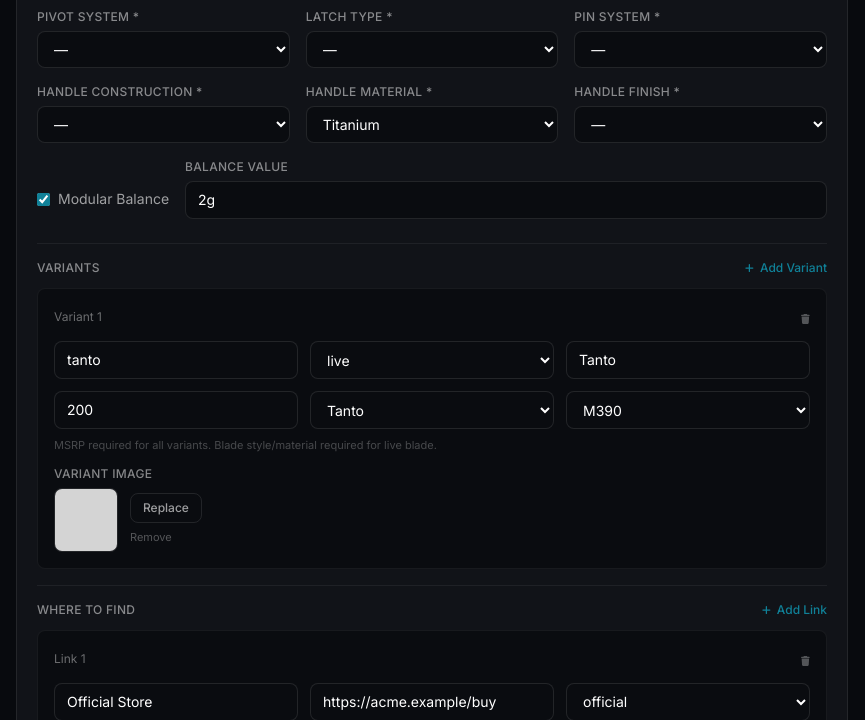
Test: AdminKnifeFormPage — edit mode › shows a Standard Trainer Blade selector when a variant is switched to trainer
The width and height of the screenshot is (865, 720).
(page scrolled)
Expected: the text "Trainer Blade" is not shown
Select "trainer" in the 7th dropdown showing "live" at [432, 360], box top-left (310, 341), bottom-right (554, 379)
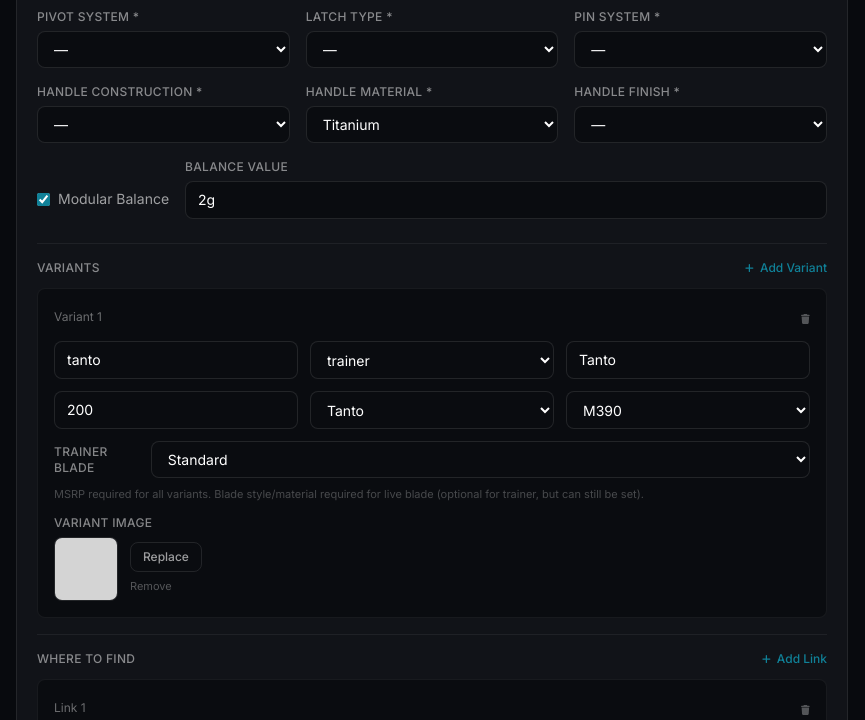
Result: the text "Trainer Blade" is shown at top-left (54, 444), bottom-right (108, 474)
Result: the dropdown showing "Standard" is shown at top-left (151, 441), bottom-right (810, 478)
